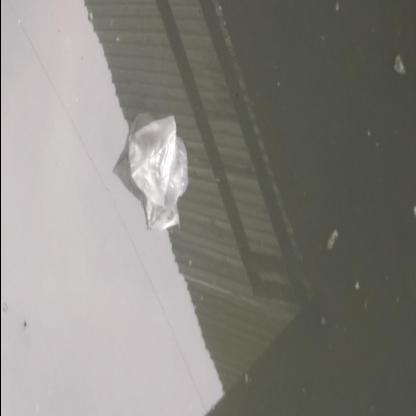plastik: (127, 116, 189, 236)
